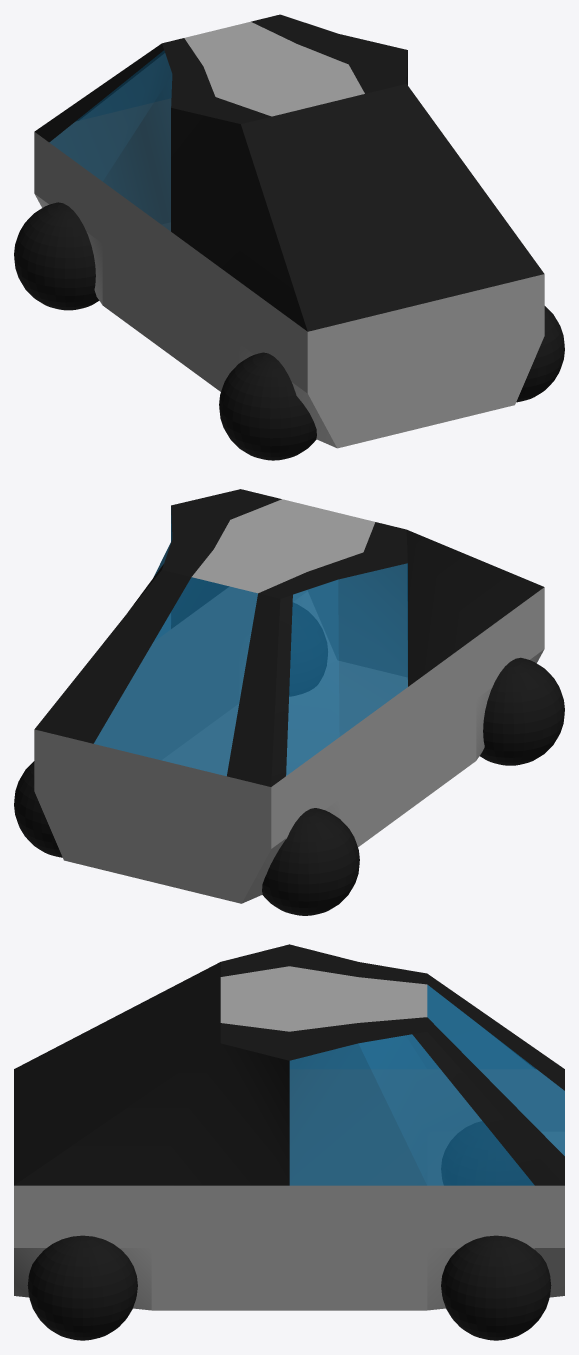
The model's file is Car.obj.
3 renders of one model, top to bottom at view 1: azimuth 30°, elevation 25°; view 2: azimuth 150°, elevation 25°; view 3: azimuth 270°, elevation 25°, orthographic.
Bounding box in the file's own units: 2.8 × 2.2 × 4.
